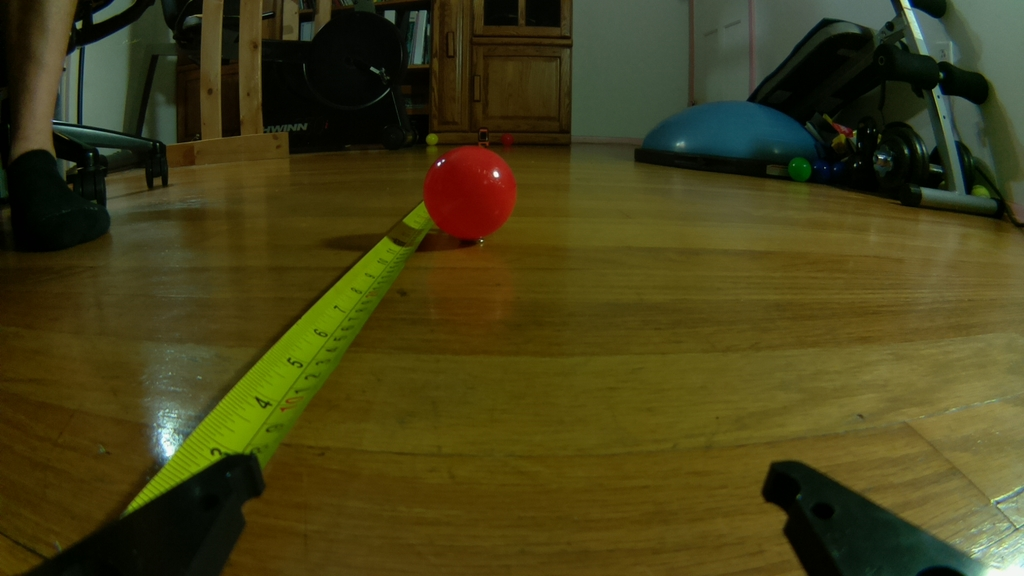ball: (421, 143, 516, 242)
